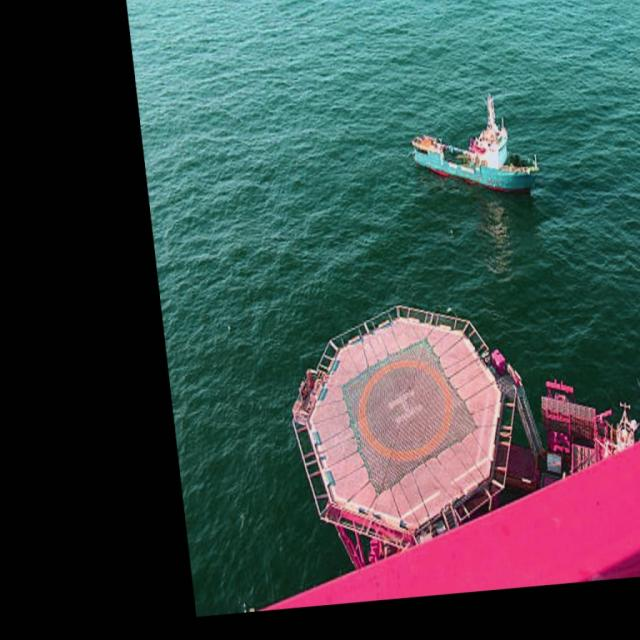helipad: (348, 355, 458, 465)
